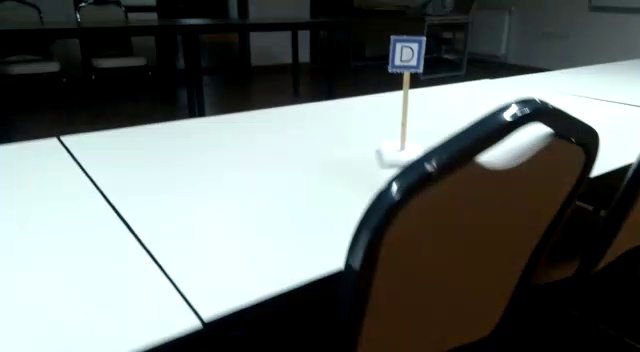durak: (389, 35, 426, 72)
